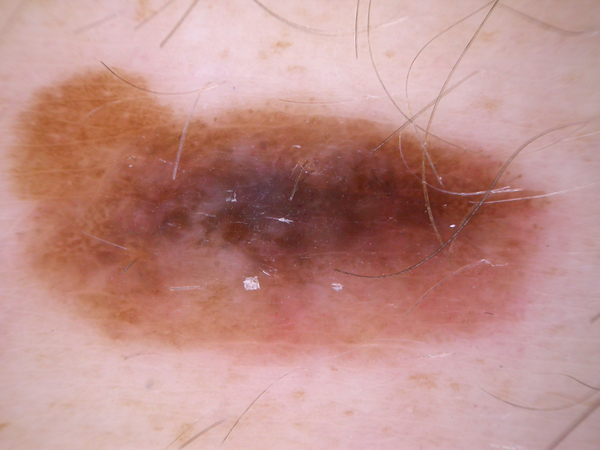Detected Lesion: (11, 69, 555, 355)
